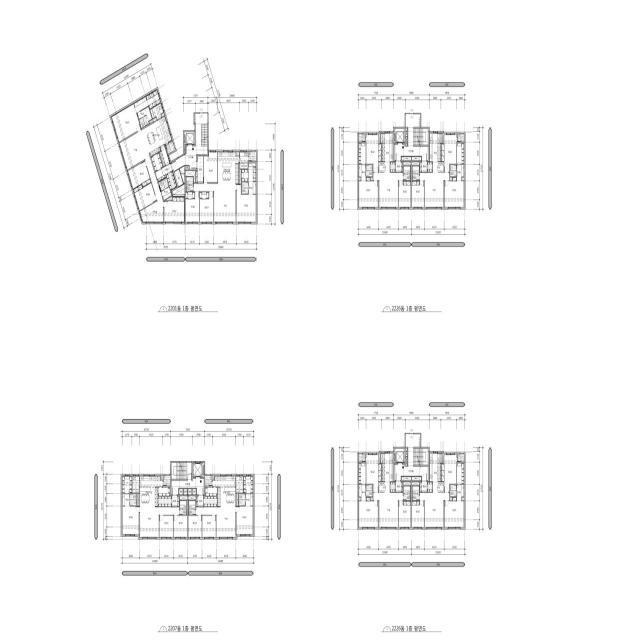space_balconi: (166, 141, 175, 154), (249, 151, 256, 161)
space_bedroom: (111, 103, 141, 142), (237, 184, 256, 223), (127, 161, 151, 189), (133, 183, 156, 211), (358, 177, 378, 208), (358, 497, 378, 528), (441, 134, 457, 172), (441, 454, 457, 492), (445, 177, 464, 208), (445, 497, 464, 528), (366, 134, 381, 172), (366, 454, 381, 492), (164, 197, 185, 223), (122, 506, 139, 535), (237, 506, 253, 535), (204, 151, 217, 182), (200, 192, 213, 223), (186, 192, 199, 223), (399, 181, 411, 208), (412, 181, 424, 208), (412, 501, 424, 528), (399, 501, 411, 528), (202, 516, 216, 538), (159, 516, 173, 538), (188, 516, 202, 538), (174, 516, 187, 538), (200, 192, 209, 198), (186, 192, 194, 198)
space_dressroom: (146, 89, 161, 109), (122, 475, 132, 493), (358, 143, 366, 164), (358, 463, 366, 484), (244, 475, 253, 493), (457, 143, 464, 164), (457, 463, 464, 484), (358, 165, 366, 181), (358, 485, 366, 501), (249, 163, 256, 181), (457, 165, 464, 181), (457, 485, 464, 501), (242, 170, 248, 181)
space_elevator: (394, 129, 405, 143), (193, 463, 204, 477), (394, 449, 405, 463), (184, 132, 195, 145)
space_elevator_hall: (171, 114, 207, 171), (394, 114, 428, 160), (394, 434, 428, 480), (171, 479, 204, 494)
space_front: (155, 163, 172, 181), (151, 153, 163, 171), (166, 171, 177, 190), (196, 156, 203, 183), (204, 496, 217, 506), (158, 497, 171, 506), (396, 161, 403, 172), (420, 161, 427, 172), (396, 481, 403, 492), (420, 481, 427, 492), (196, 496, 203, 506), (172, 496, 179, 506)
space_kitchen: (142, 116, 172, 156), (140, 475, 163, 507), (212, 475, 235, 507), (218, 151, 239, 184), (430, 132, 444, 173), (379, 132, 393, 173), (430, 452, 444, 493), (379, 452, 393, 493), (158, 487, 170, 496), (205, 488, 217, 496)
space_living_room: (119, 130, 163, 223), (194, 184, 236, 223), (196, 507, 236, 538), (139, 507, 179, 538), (373, 173, 403, 208), (373, 493, 403, 528), (420, 173, 449, 208), (420, 493, 449, 528)
space_other: (159, 145, 170, 167), (150, 103, 164, 120), (174, 169, 183, 187), (240, 151, 249, 169), (173, 184, 185, 195), (236, 475, 243, 493), (132, 475, 139, 493), (186, 170, 195, 182), (180, 166, 185, 183), (390, 162, 395, 172), (390, 482, 395, 492), (149, 117, 157, 123), (428, 162, 432, 172), (428, 482, 432, 492), (188, 496, 196, 500), (165, 196, 172, 200), (180, 496, 187, 500), (402, 157, 411, 160), (412, 157, 421, 160), (412, 477, 421, 480), (402, 477, 411, 480), (403, 162, 411, 165), (236, 494, 238, 506), (137, 494, 139, 506), (403, 482, 411, 485), (412, 162, 419, 165), (412, 482, 419, 485), (188, 489, 192, 494), (179, 489, 183, 494), (192, 489, 196, 494), (442, 134, 444, 143), (442, 454, 444, 463), (184, 146, 186, 154), (161, 113, 165, 117), (406, 137, 408, 145), (406, 457, 408, 465), (236, 151, 239, 156), (184, 489, 187, 494), (240, 170, 241, 184), (406, 129, 408, 136), (406, 449, 408, 456), (185, 166, 189, 169), (358, 177, 361, 180), (379, 134, 380, 143), (379, 454, 380, 463), (358, 497, 361, 500), (212, 476, 214, 480), (450, 177, 452, 180), (371, 177, 373, 180), (462, 177, 464, 180), (462, 497, 464, 500), (450, 497, 452, 500), (371, 497, 373, 500)
space_outdoor_room: (205, 475, 212, 486), (164, 475, 170, 486), (358, 134, 365, 142), (358, 454, 365, 462), (458, 134, 464, 142), (458, 454, 464, 462)
space_staircase: (171, 463, 192, 479), (413, 129, 428, 145), (413, 449, 428, 465), (201, 124, 207, 146)
space_toilet: (137, 107, 152, 128), (134, 96, 148, 113), (161, 187, 172, 200), (403, 166, 411, 180), (403, 486, 411, 500), (412, 166, 419, 180), (186, 177, 193, 191), (180, 501, 187, 515), (189, 501, 196, 515), (412, 486, 419, 500), (249, 182, 256, 194), (123, 494, 130, 506), (246, 494, 253, 506), (163, 178, 169, 189), (159, 180, 165, 191), (366, 171, 373, 177), (450, 165, 457, 171), (366, 491, 373, 497), (450, 485, 457, 491), (242, 182, 248, 188), (242, 188, 248, 194), (239, 494, 245, 500), (450, 171, 457, 176), (366, 165, 373, 170), (130, 494, 137, 499), (366, 485, 373, 490), (450, 491, 457, 496), (130, 500, 137, 505), (239, 500, 245, 505)
